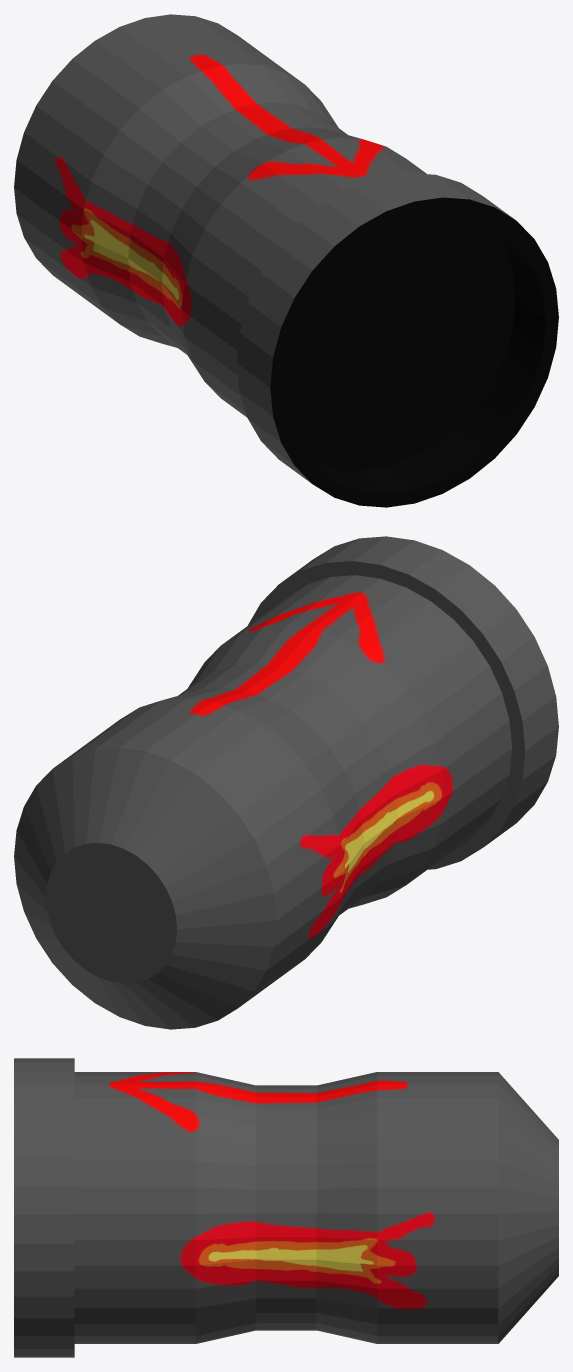
The model's file is Canon.glb.
The picture shows the model from 3 angles, top to bottom: view 1: azimuth 30°, elevation 25°; view 2: azimuth 150°, elevation 25°; view 3: azimuth 270°, elevation 25°; orthographic projection. The views are drawn at different scales.
Parts seen in each view (by area): view 1: Cylinder; view 2: Cylinder; view 3: Cylinder.
Part boxes in pixels (x1,y1,x2,y2): Cylinder: (14,14,558,507); Cylinder: (14,536,558,1029); Cylinder: (14,1058,558,1357).
Size of the model in its own units: 2.2 by 2.2 by 4.
1 material, 1 textured.
